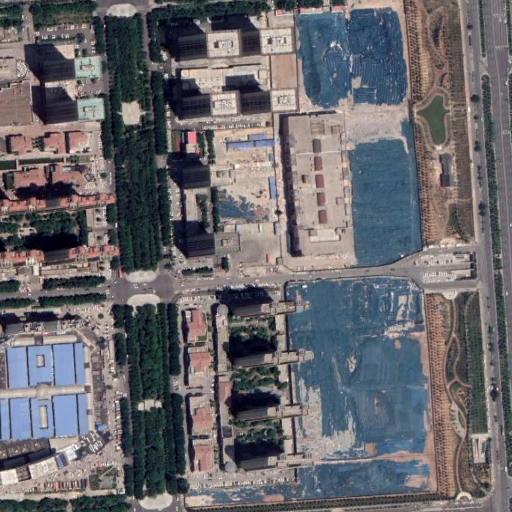cw: (292, 7, 423, 268), (282, 277, 433, 456), (183, 457, 438, 509)
